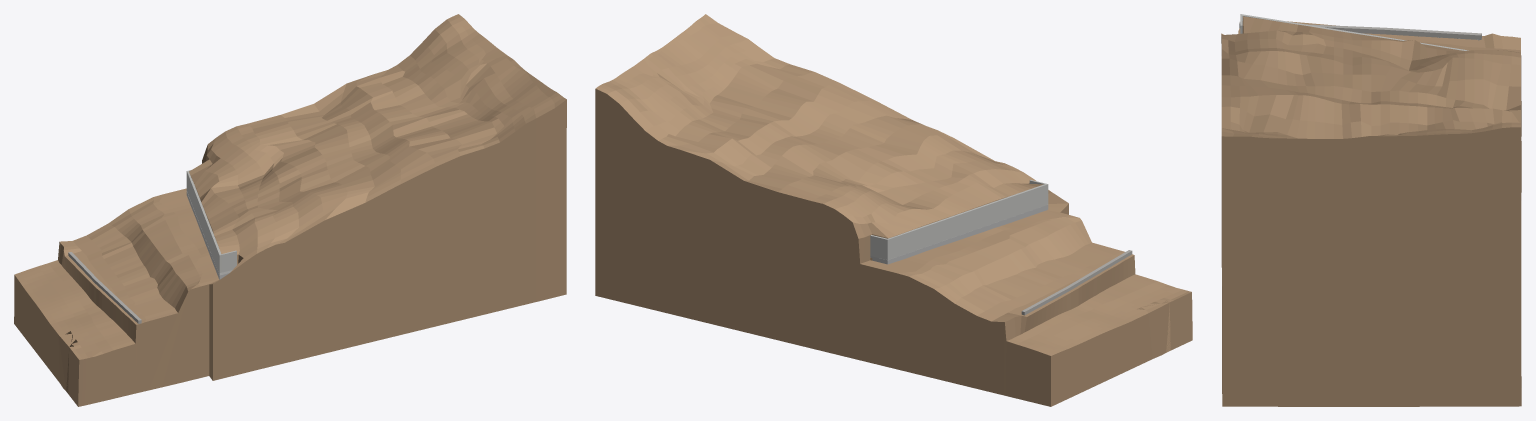
File: cb1_spw5_rtw1.glb
3 views of the same model, side by side, from view 1: azimuth 30°, elevation 25°; view 2: azimuth 150°, elevation 25°; view 3: azimuth 270°, elevation 25° (orthographic). The views are drawn at different scales.
Parts seen in each view (by area): view 1: Terrain 02 - NGL.Stage02, RTW1, Cube.123; view 2: Terrain 02 - NGL.Stage02, RTW1, CB1, Cube.123; view 3: Terrain 02 - NGL.Stage02, Cube.123, RTW1.
Part boxes in pixels (x1,y1,x2,y2): Terrain 02 - NGL.Stage02: (14,14,566,406); RTW1: (186,170,236,275); Cube.123: (68,252,141,323); Terrain 02 - NGL.Stage02: (595,14,1192,406); RTW1: (870,180,1048,259); CB1: (870,205,1048,264); Cube.123: (1021,250,1132,315); Terrain 02 - NGL.Stage02: (1221,16,1521,406); Cube.123: (1239,22,1481,39); RTW1: (1240,14,1468,50).
Bounding box in the file's own units: 45.8 × 18.31 × 17.83.
